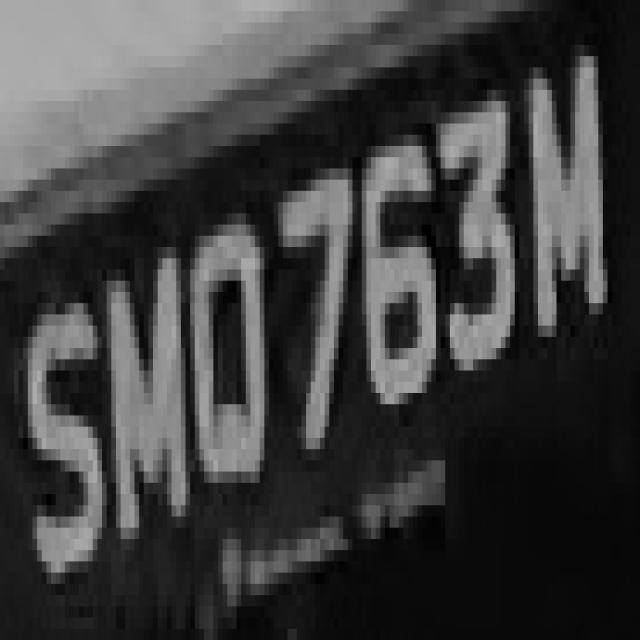3: (422, 67, 515, 382)
6: (352, 101, 446, 472)
7: (278, 146, 357, 483)
M: (515, 34, 617, 348), (102, 225, 199, 539)
Q: (176, 191, 278, 516)
S: (23, 258, 102, 618)
